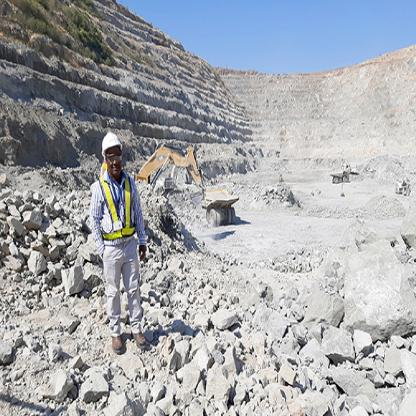dump_truck: (202, 178, 235, 242)
person: (88, 127, 149, 373)
